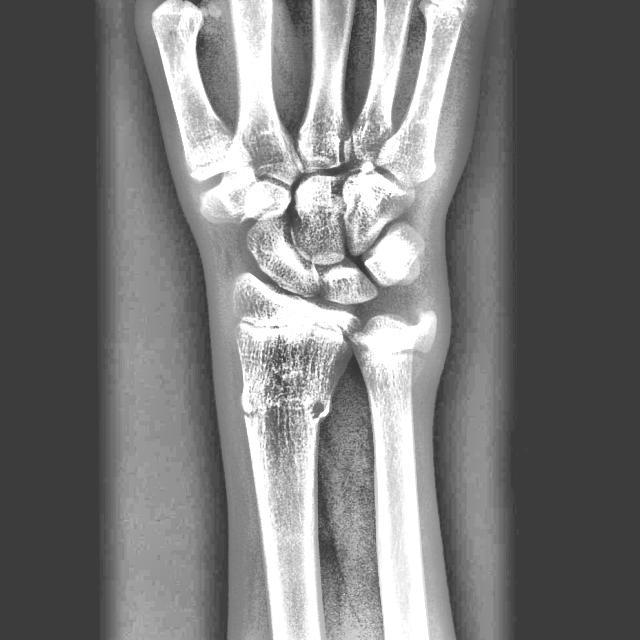fracture: (240, 394, 332, 426)
